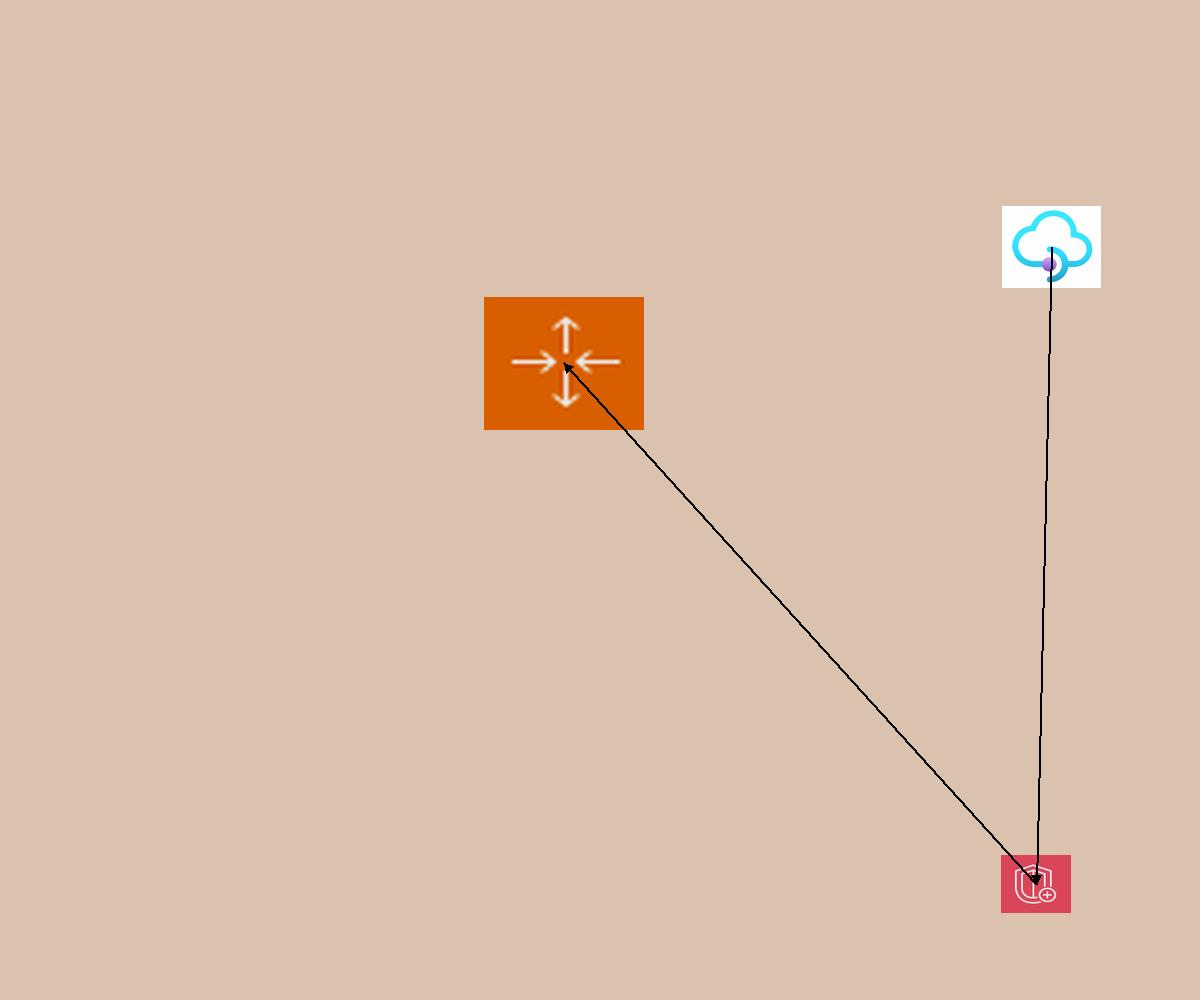AWS-Scaling-group: (484, 297, 644, 430)
AWS-Shield: (1001, 855, 1071, 913)
Azure_api_gateway: (1002, 206, 1101, 288)
